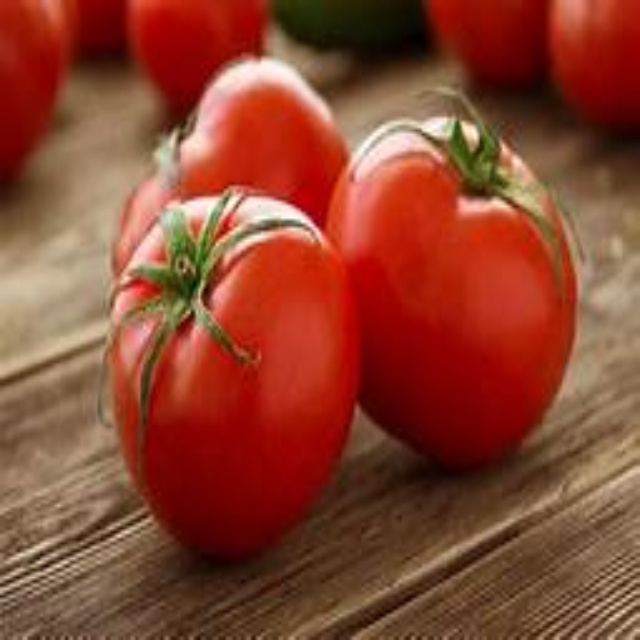tomato: (96, 197, 365, 551), (325, 115, 582, 465), (122, 51, 347, 276)
